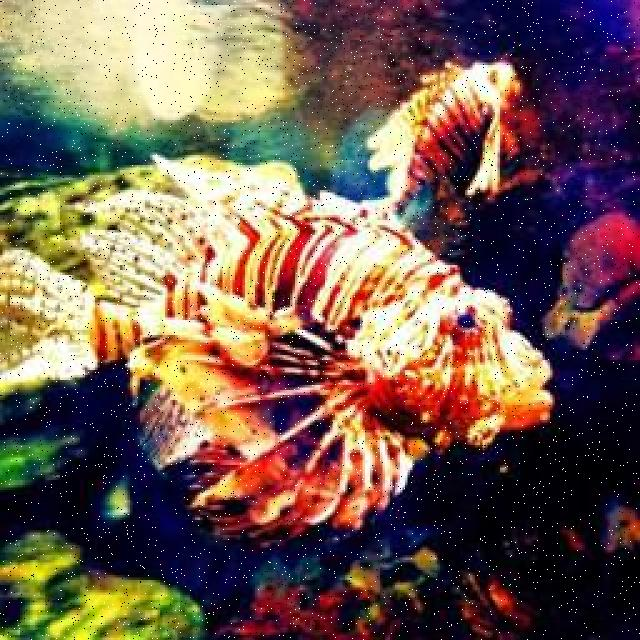fish: (0, 156, 556, 523), (363, 62, 517, 216)
